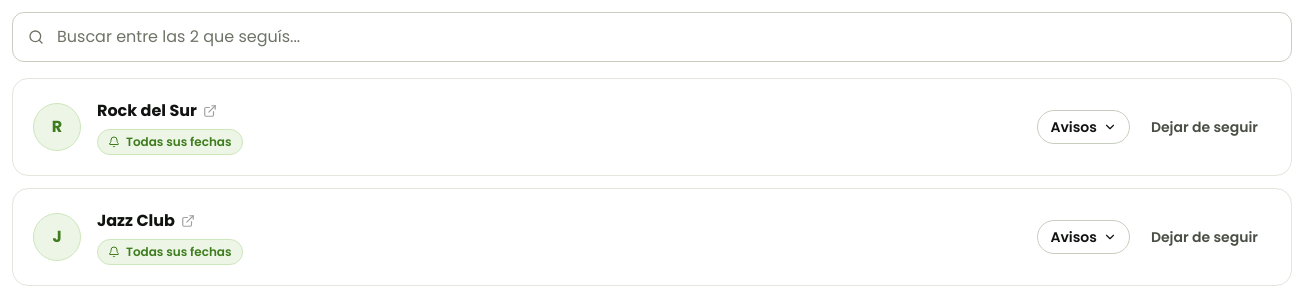
Test: FollowingManager › búsqueda dentro de las seguidas › filtra por descripción
Type "recitales" into the search field with placeholder "Buscar entre las 2 que seguís..." at (652, 37), box [12,12,1292,62]
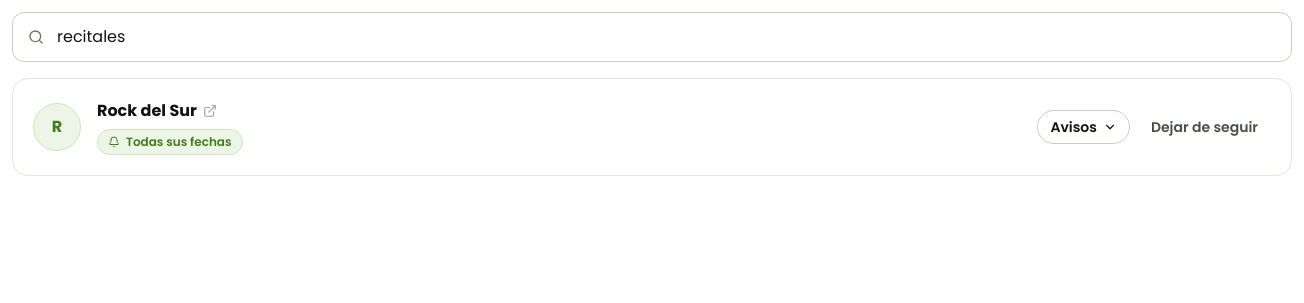
Check: the text "Rock del Sur" is shown, box [97,99,197,123]
Check: the link "Jazz Club" is gone
